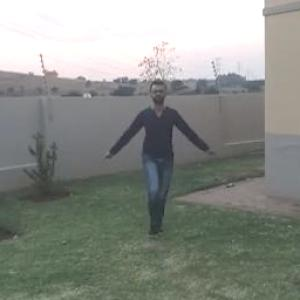land: (108, 83, 206, 223)
